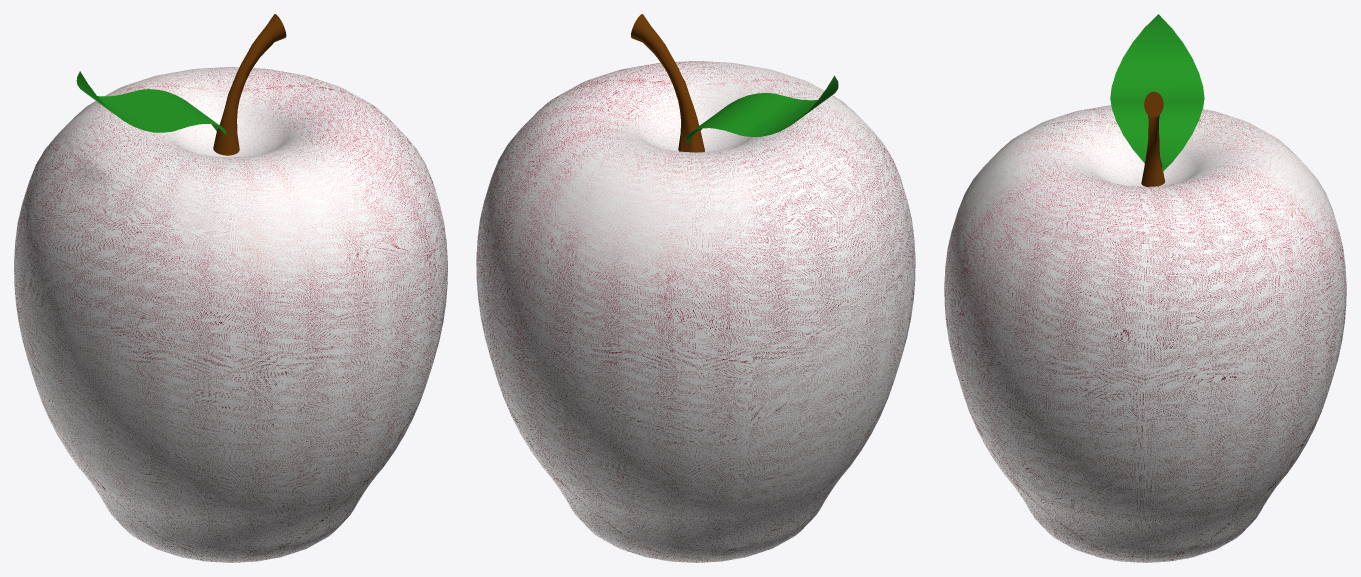
Rendered from Apple (1).fbx.
The picture shows the model from 3 angles, left to right: view 1: azimuth 30°, elevation 25°; view 2: azimuth 150°, elevation 25°; view 3: azimuth 270°, elevation 25°; orthographic projection. The views are drawn at different scales.
Parts seen in each view (by area): view 1: Model, Component_3_1, Component_1_1; view 2: Model, Component_3_1, Component_1_1; view 3: Model, Component_3_1, Component_1_1.
Boxes of the visible parts, left/top/right/bottom form: Model: left=14, top=67, right=447, bottom=562; Component_3_1: left=76, top=71, right=226, bottom=135; Component_1_1: left=213, top=14, right=286, bottom=155; Model: left=476, top=61, right=915, bottom=562; Component_3_1: left=686, top=75, right=838, bottom=143; Component_1_1: left=631, top=14, right=704, bottom=152; Model: left=944, top=105, right=1346, bottom=562; Component_3_1: left=1110, top=14, right=1204, bottom=171; Component_1_1: left=1141, top=91, right=1164, bottom=186.
Bounding box in the file's own units: 18.89 × 23.87 × 18.89.
